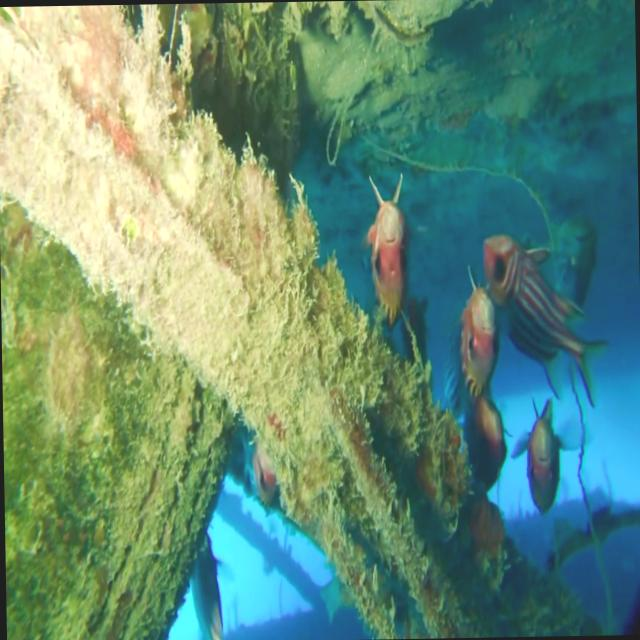Asker Baligi: (478, 228, 608, 412), (360, 170, 410, 328)
